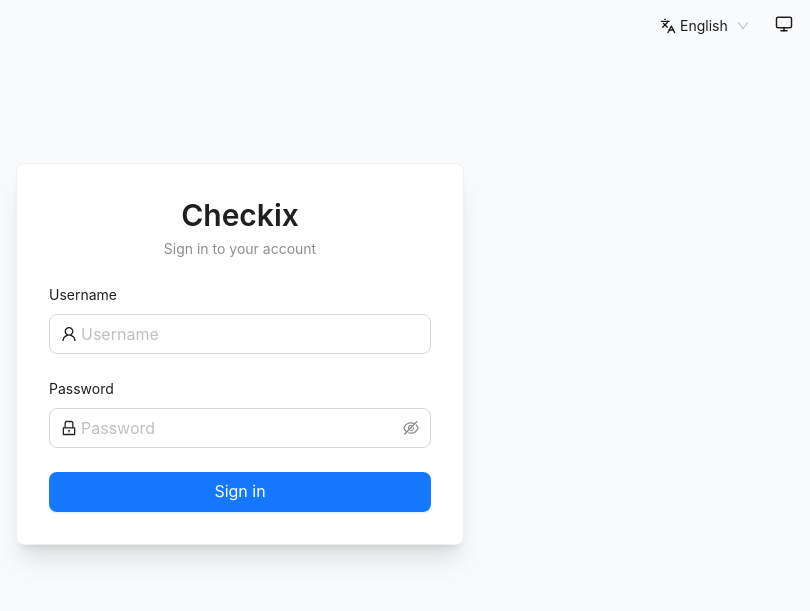
LoginPage › shows generic error on network failure
Type "testuser" into the field labelled "Username" at (250, 334), box [81,322,419,346]
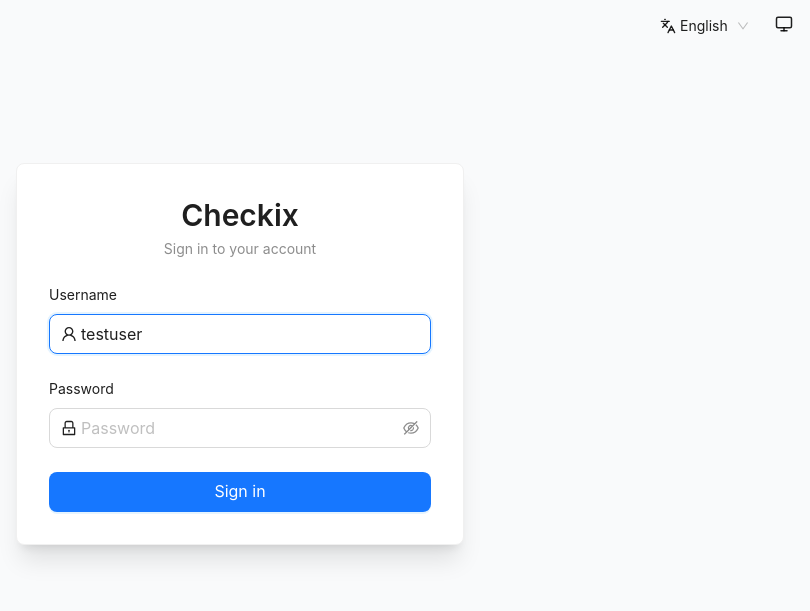
Type "password" into the password field labelled "Password" at (240, 428), box [81,416,399,440]
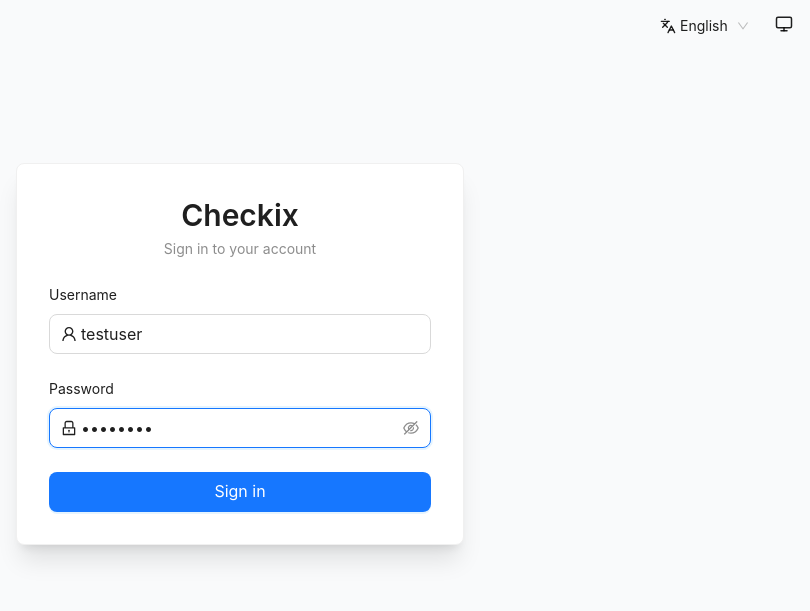
Click the button "Sign in" at (240, 492), box [49,472,431,512]
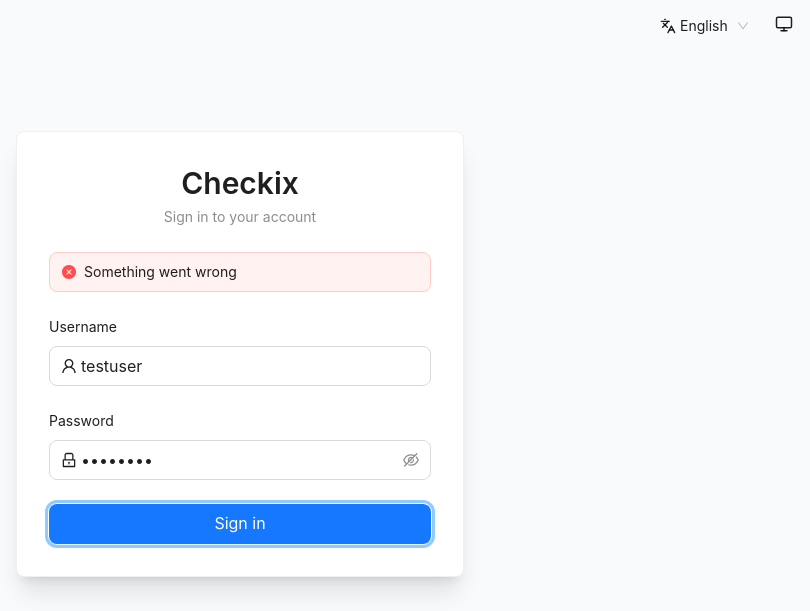
Check: the text "Something went wrong" is shown, box [84,263,237,280]
